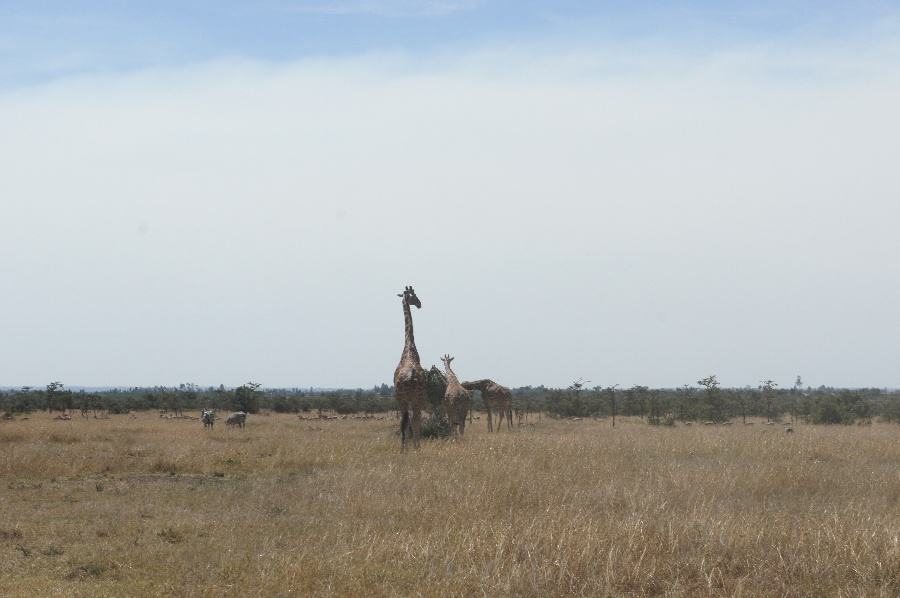giraffe: (390, 280, 432, 458), (457, 367, 522, 435), (438, 343, 472, 445)
